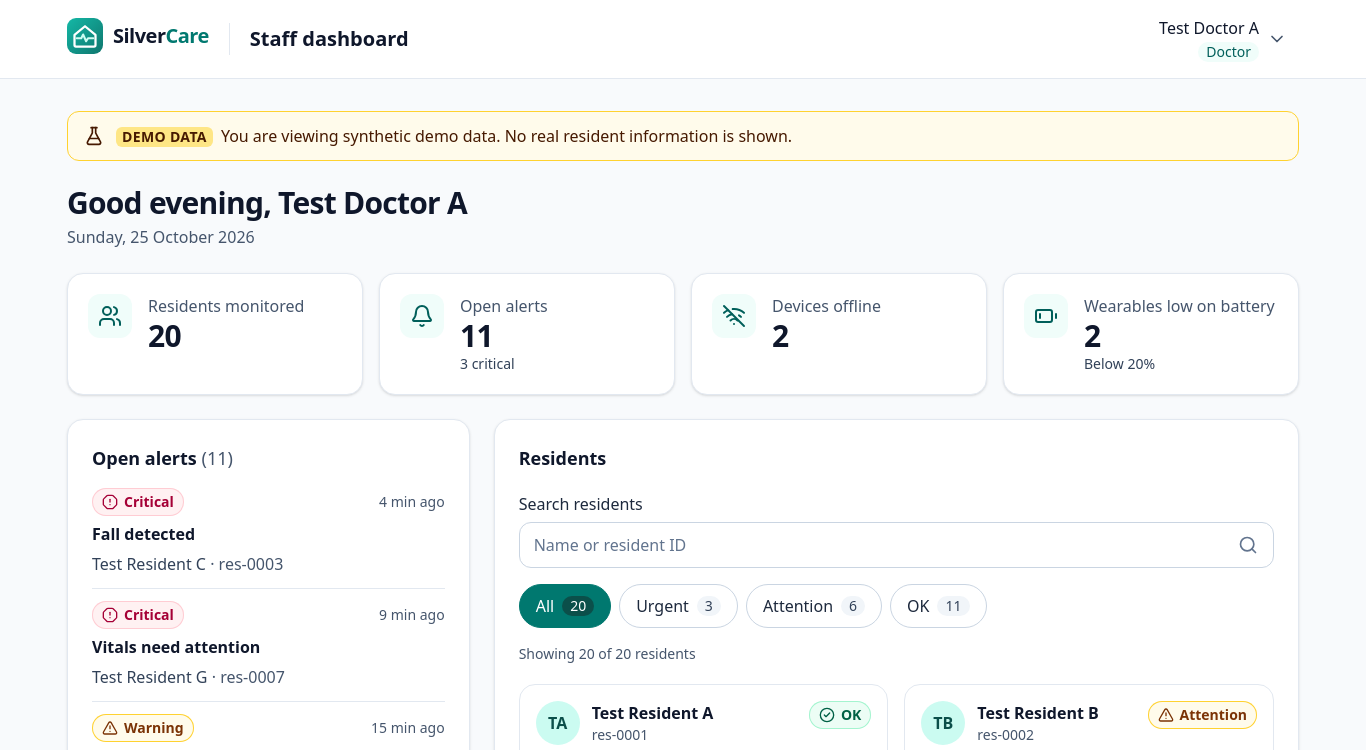
search and filters › searches by name
The image size is (1366, 750).
Expected: the heading "Residents" is shown, left=519, top=446, right=606, bottom=470
Click the search field labelled "Search residents". click: (896,545)
box: left=519, top=522, right=1274, bottom=568
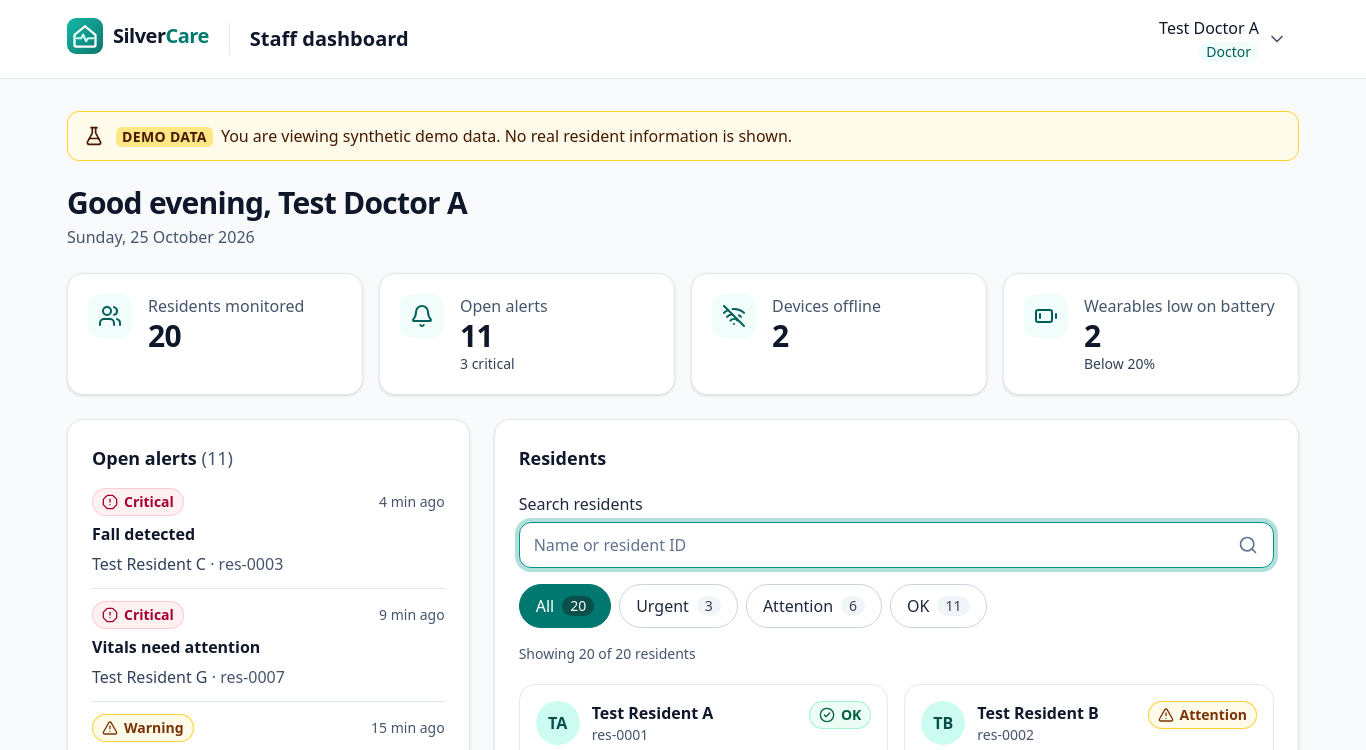
Type keys "test resident c"
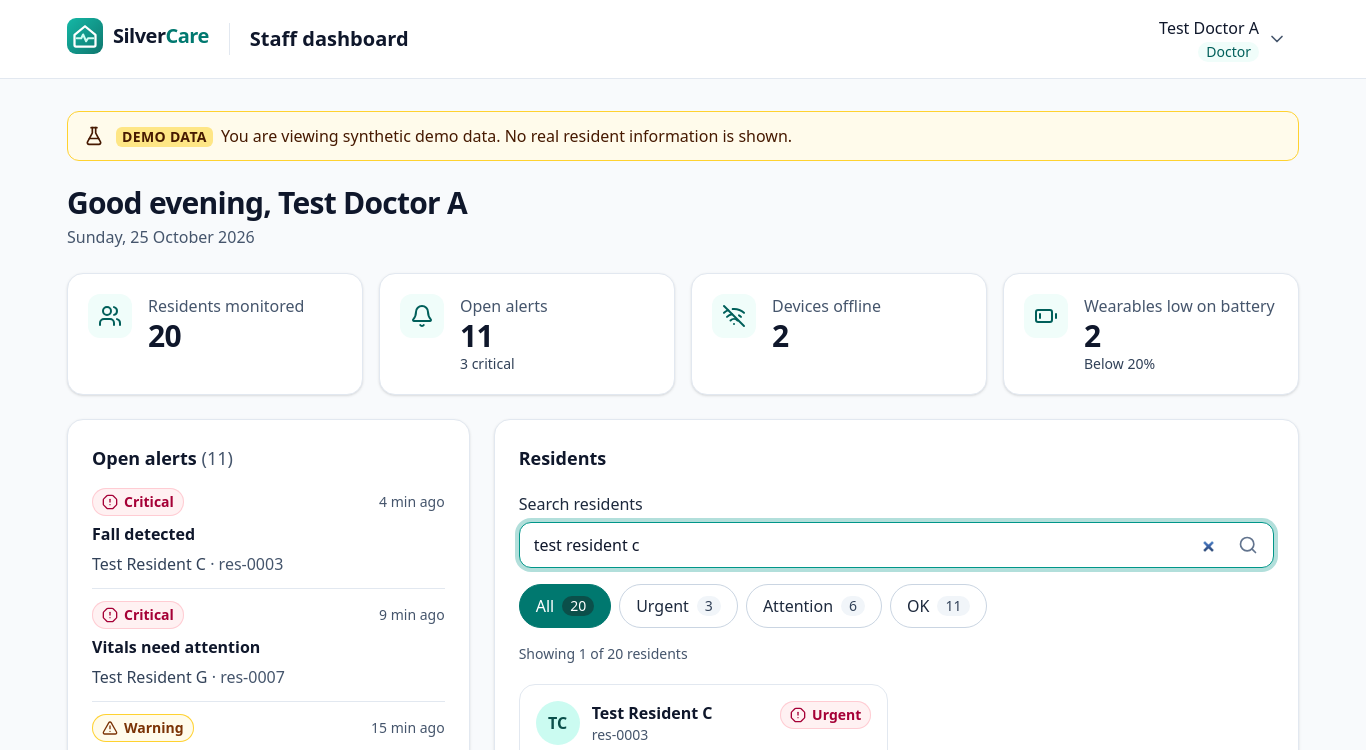
Expected: the heading "Test Resident C" is shown, left=592, top=702, right=713, bottom=724
Now the text "Showing 1 of 20 residents" is shown, box left=519, top=644, right=688, bottom=663
